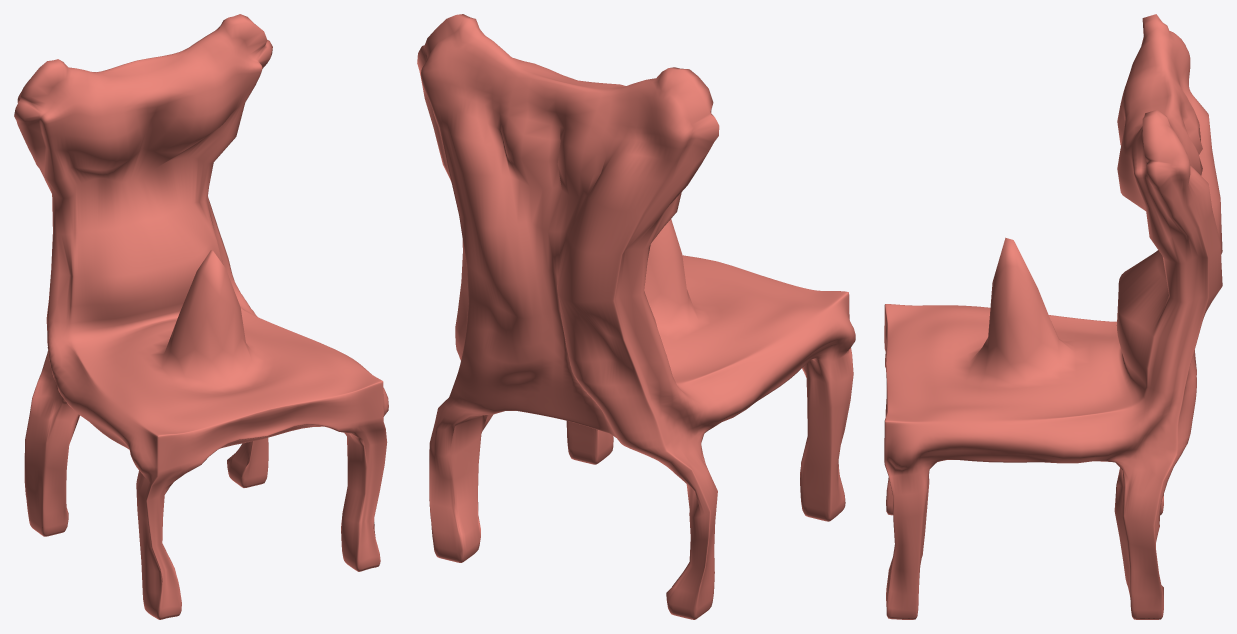
Rendered from OfficeChair4.fbx.
3 views of the same model, side by side, from view 1: azimuth 30°, elevation 25°; view 2: azimuth 150°, elevation 25°; view 3: azimuth 270°, elevation 25° (orthographic). The views are drawn at different scales.
Parts seen in each view (by area): view 1: Cube.081; view 2: Cube.081; view 3: Cube.081.
Boxes of the visible parts, x1=… form: Cube.081: x1=14, y1=14, x2=388, y2=619; Cube.081: x1=417, y1=14, x2=855, y2=619; Cube.081: x1=884, y1=14, x2=1222, y2=619.
Size of the model in its own units: 76.41 by 132 by 81.08.
